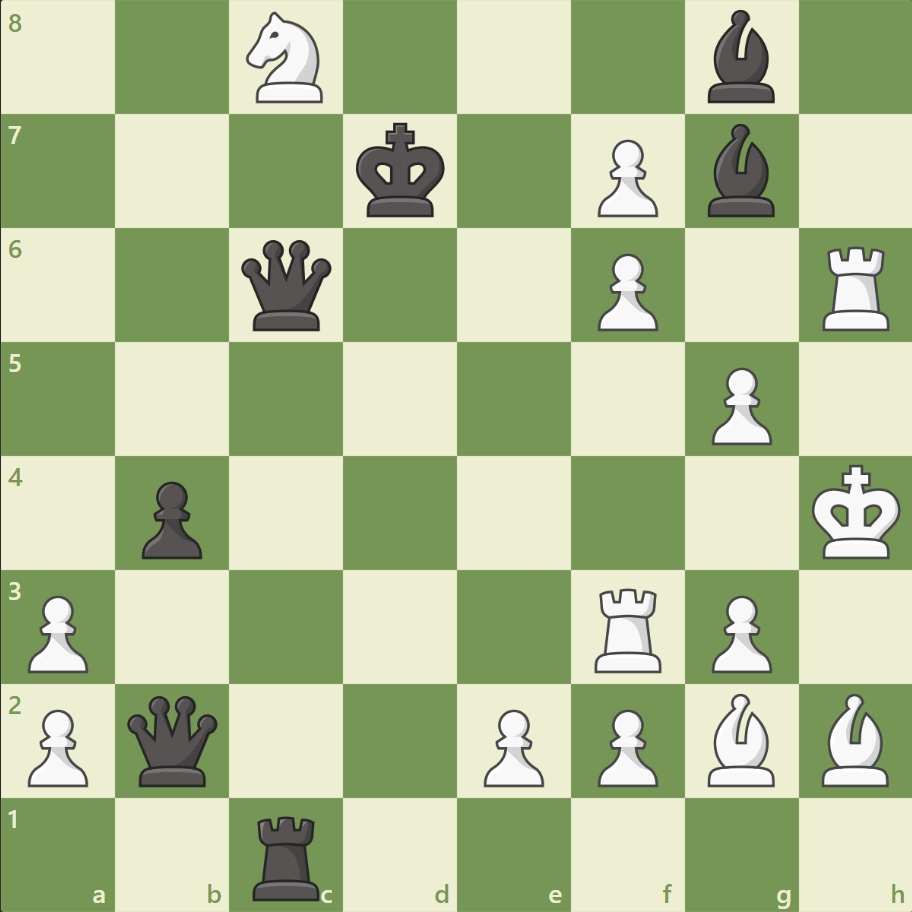B: (698, 687, 782, 790), (812, 687, 896, 790)
K: (806, 458, 906, 566)
N: (238, 7, 335, 110)
P: (701, 359, 776, 450), (20, 586, 95, 677), (701, 586, 776, 677), (20, 700, 95, 791), (474, 700, 549, 791), (588, 132, 662, 223), (588, 246, 662, 337), (588, 700, 662, 791)
R: (814, 239, 897, 336), (587, 579, 670, 676)
b: (698, 6, 782, 109), (698, 120, 782, 222)
k: (351, 117, 451, 225)
p: (133, 473, 208, 564)
q: (237, 236, 336, 335), (124, 690, 223, 789)
r: (246, 806, 329, 904)
